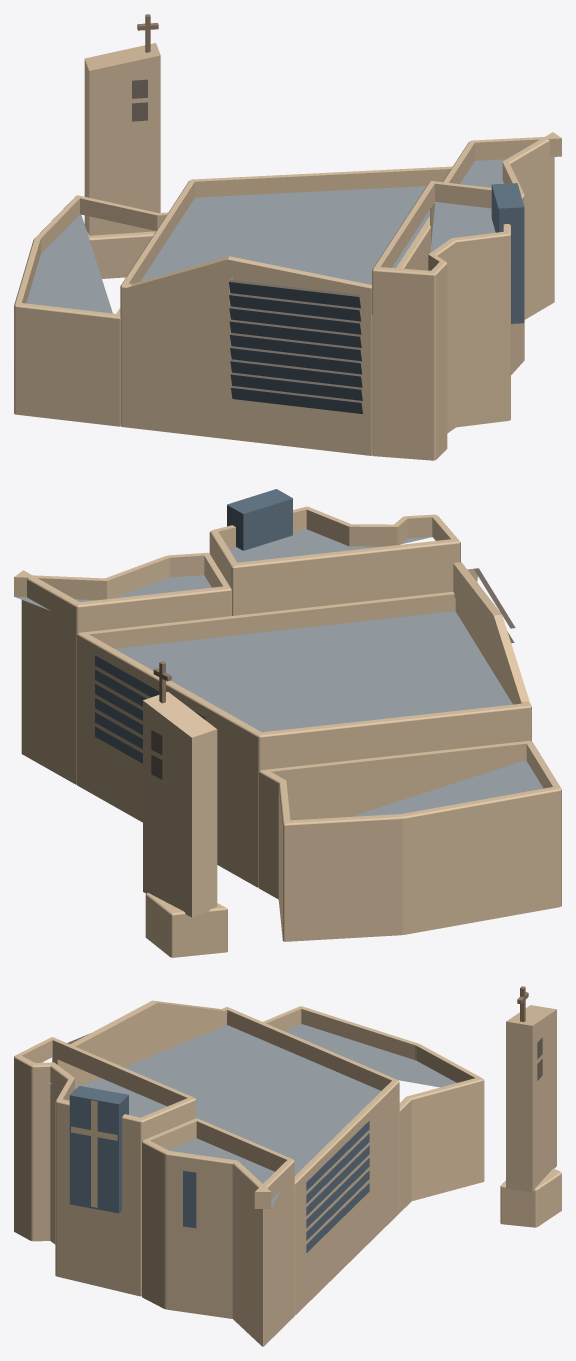
File: detail.glb
The picture shows the model from 3 angles, top to bottom: view 1: azimuth 30°, elevation 25°; view 2: azimuth 150°, elevation 25°; view 3: azimuth 270°, elevation 25°; orthographic projection. The views are drawn at different scales.
Parts seen in each view (by area): view 1: cathedral-of-our-lady-of-the-angels; view 2: cathedral-of-our-lady-of-the-angels; view 3: cathedral-of-our-lady-of-the-angels.
Boxes of the visible parts, box(x1,y1,x2,y2) form: cathedral-of-our-lady-of-the-angels: box(14, 14, 561, 460); cathedral-of-our-lady-of-the-angels: box(14, 489, 561, 957); cathedral-of-our-lady-of-the-angels: box(14, 986, 561, 1346).
Bounding box in the file's own units: 120 × 55.2 × 116.
